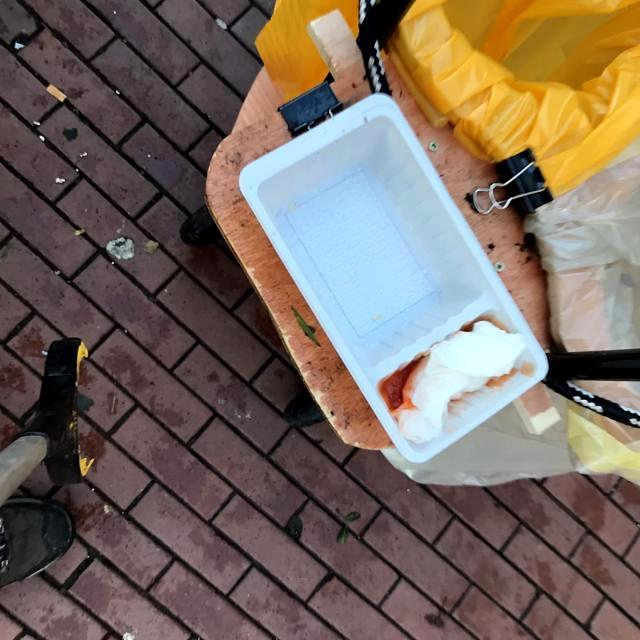Plastic: (234, 91, 552, 468)
